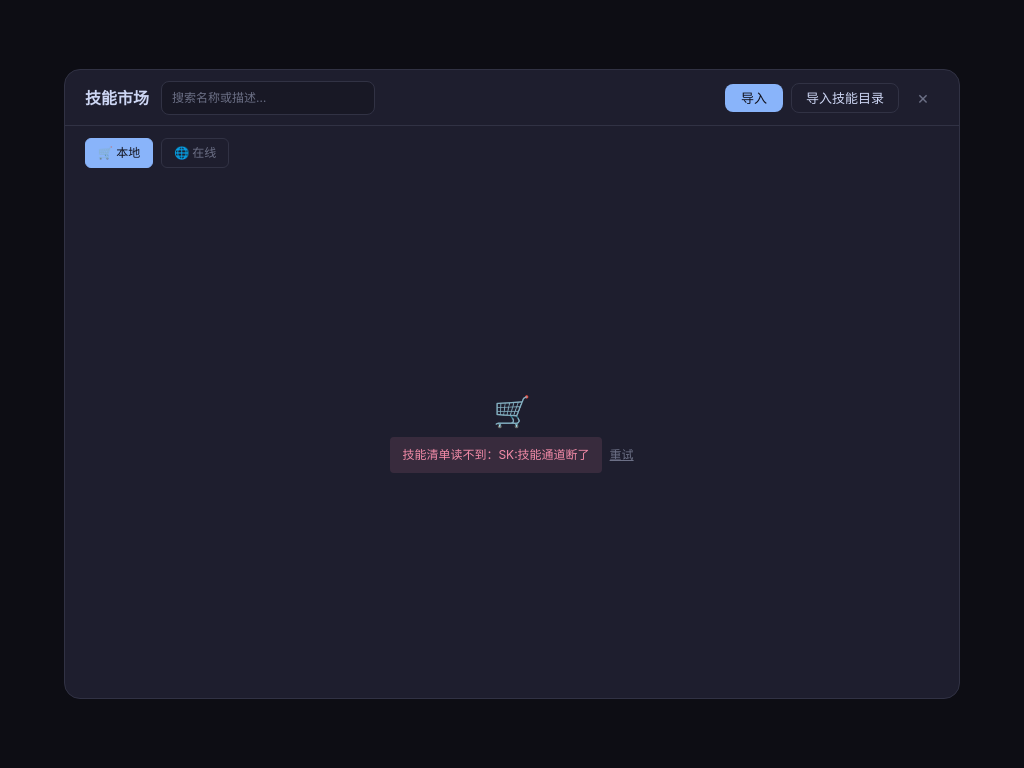
② 技能市场本地那一 tab：「还没有任何技能」这张脸让位 › 那颗键点了有效，而且不去重发别家（这一屏只有本地清单那一发）
Step 1. Click the button with test id "skill-market-skills-retry" → point(622, 455), box [610, 447, 634, 463]
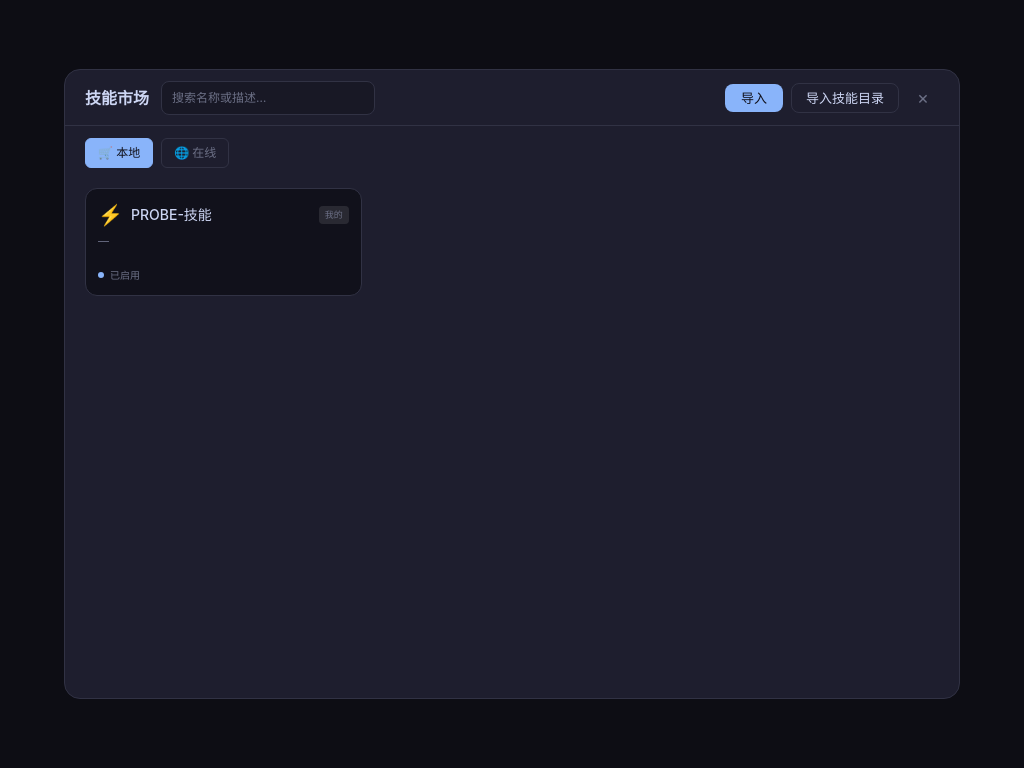
Check: the text "PROBE-技能" is shown, box [131, 205, 212, 225]
